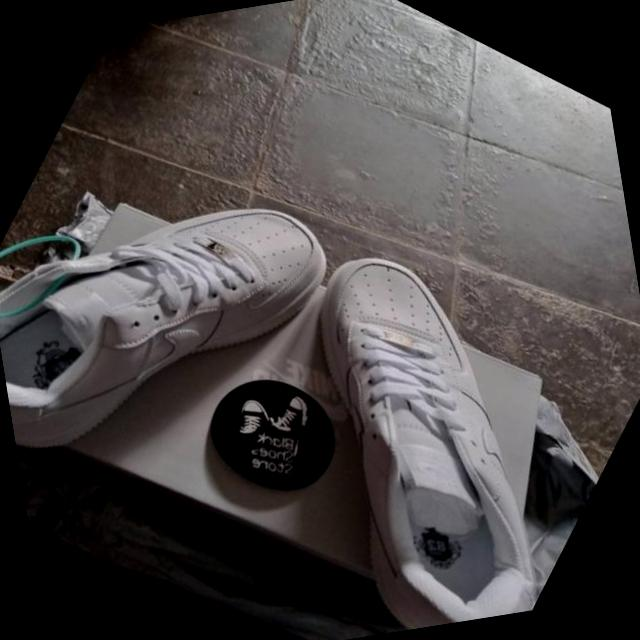nike_fake_airforce: (156, 194, 640, 640), (0, 65, 382, 558)
